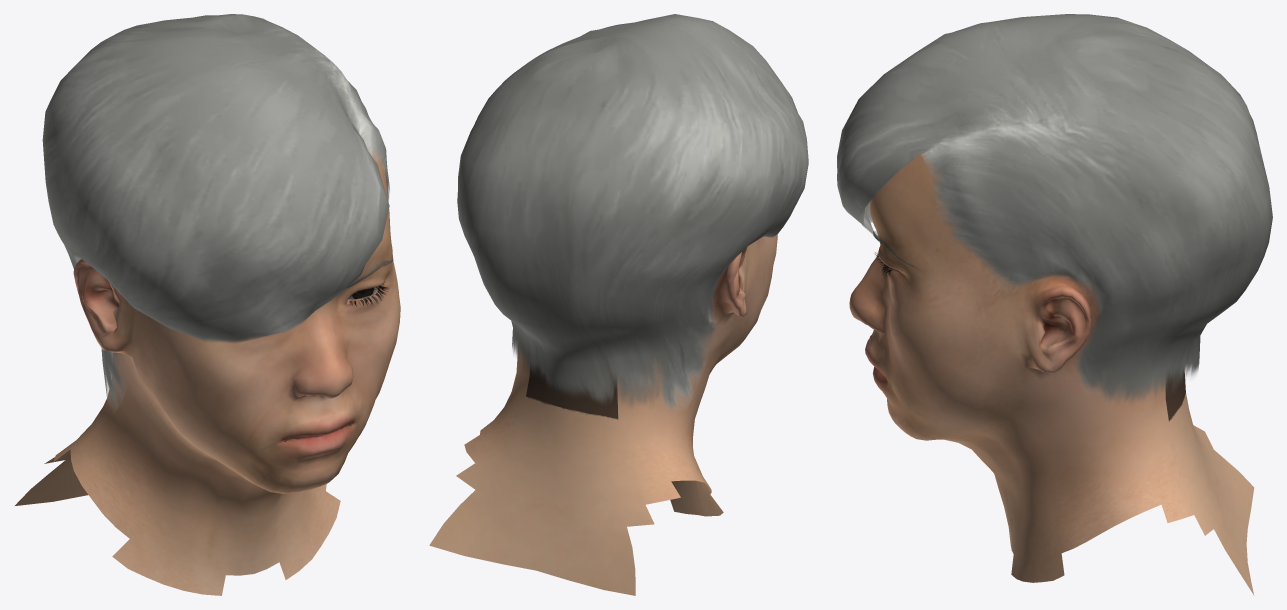
The model's file is patient02.glb.
3 views of the same model, side by side, from view 1: azimuth 30°, elevation 25°; view 2: azimuth 150°, elevation 25°; view 3: azimuth 270°, elevation 25° (orthographic). The views are drawn at different scales.
Visible parts, largest first — view 1: choi_gyosu.short03, choi_gyosu.body; view 2: choi_gyosu.short03, choi_gyosu.body; view 3: choi_gyosu.short03, choi_gyosu.body.
Part boxes in pixels (bbox=[...]): choi_gyosu.short03: bbox=[42, 14, 389, 411]; choi_gyosu.body: bbox=[15, 101, 400, 595]; choi_gyosu.short03: bbox=[457, 14, 808, 411]; choi_gyosu.body: bbox=[429, 234, 777, 595]; choi_gyosu.short03: bbox=[837, 14, 1272, 403]; choi_gyosu.body: bbox=[849, 123, 1254, 595].
Bounding box in the file's own units: 0.1802 × 0.3051 × 0.2317.
Materials: 8 (7 with a texture image).
